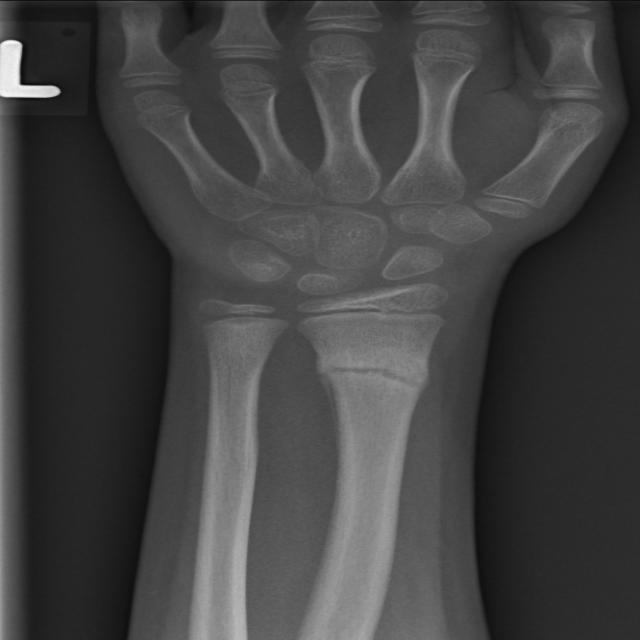radius fracture: (296, 330, 460, 462)
ulna fracture: (198, 325, 304, 435)
